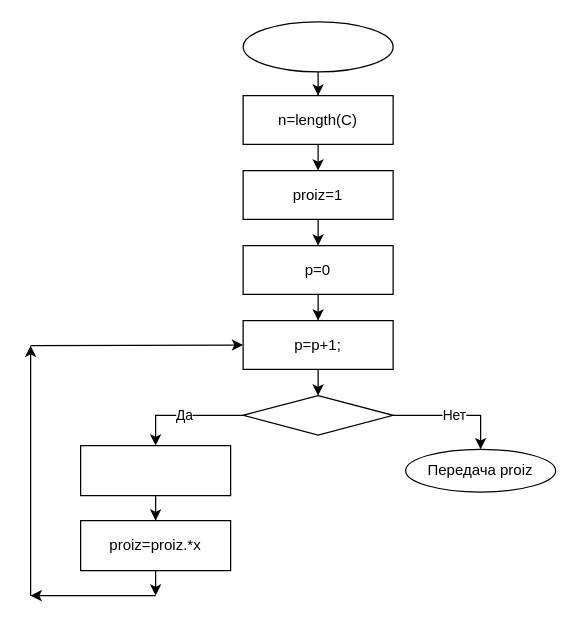
The diagram is 578 pixels wide and 628 high, and some of its shapes have lost their labels. The centre of each missing label's shape, as x and y in pixels:
p<=n: (x=317, y=414)
x=feval(f,C(p)): (x=155, y=470)
Передача С, f: (x=317, y=46)
